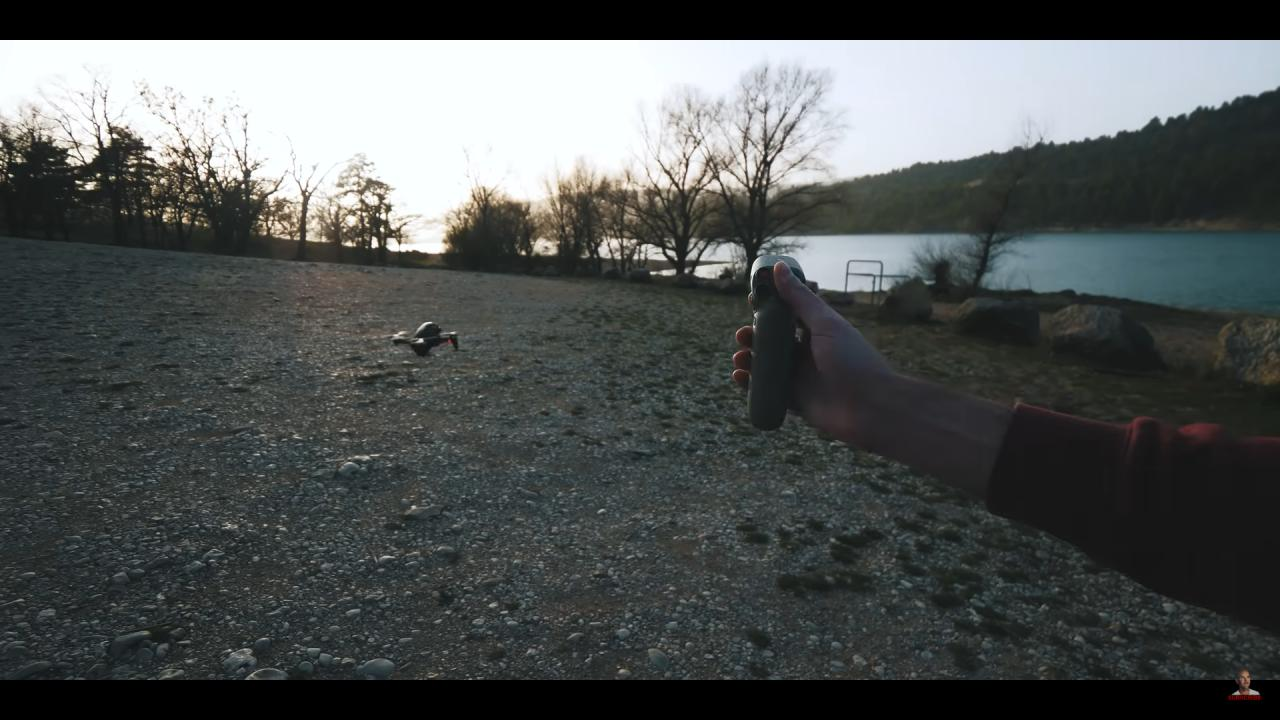Drone: (381, 312, 468, 365)
